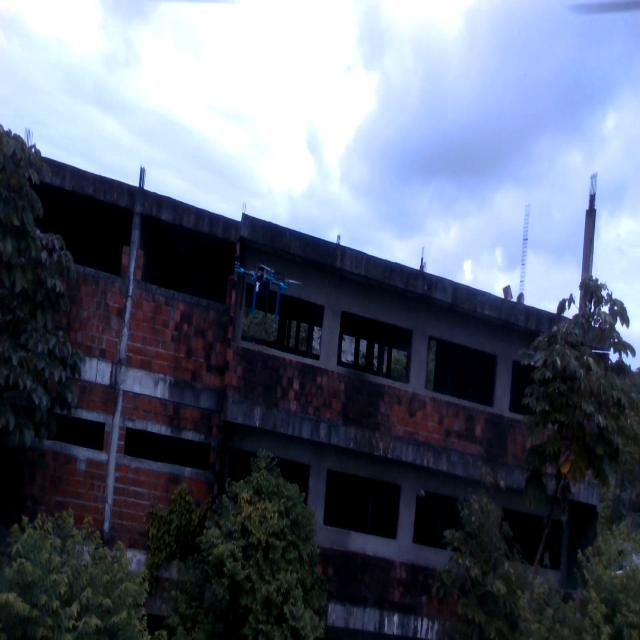-uav-: (227, 235, 309, 338)
